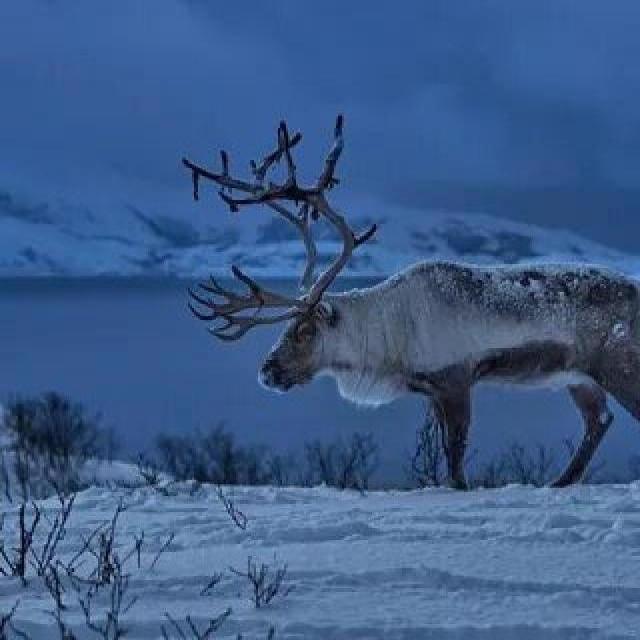deer: (194, 168, 640, 500)
